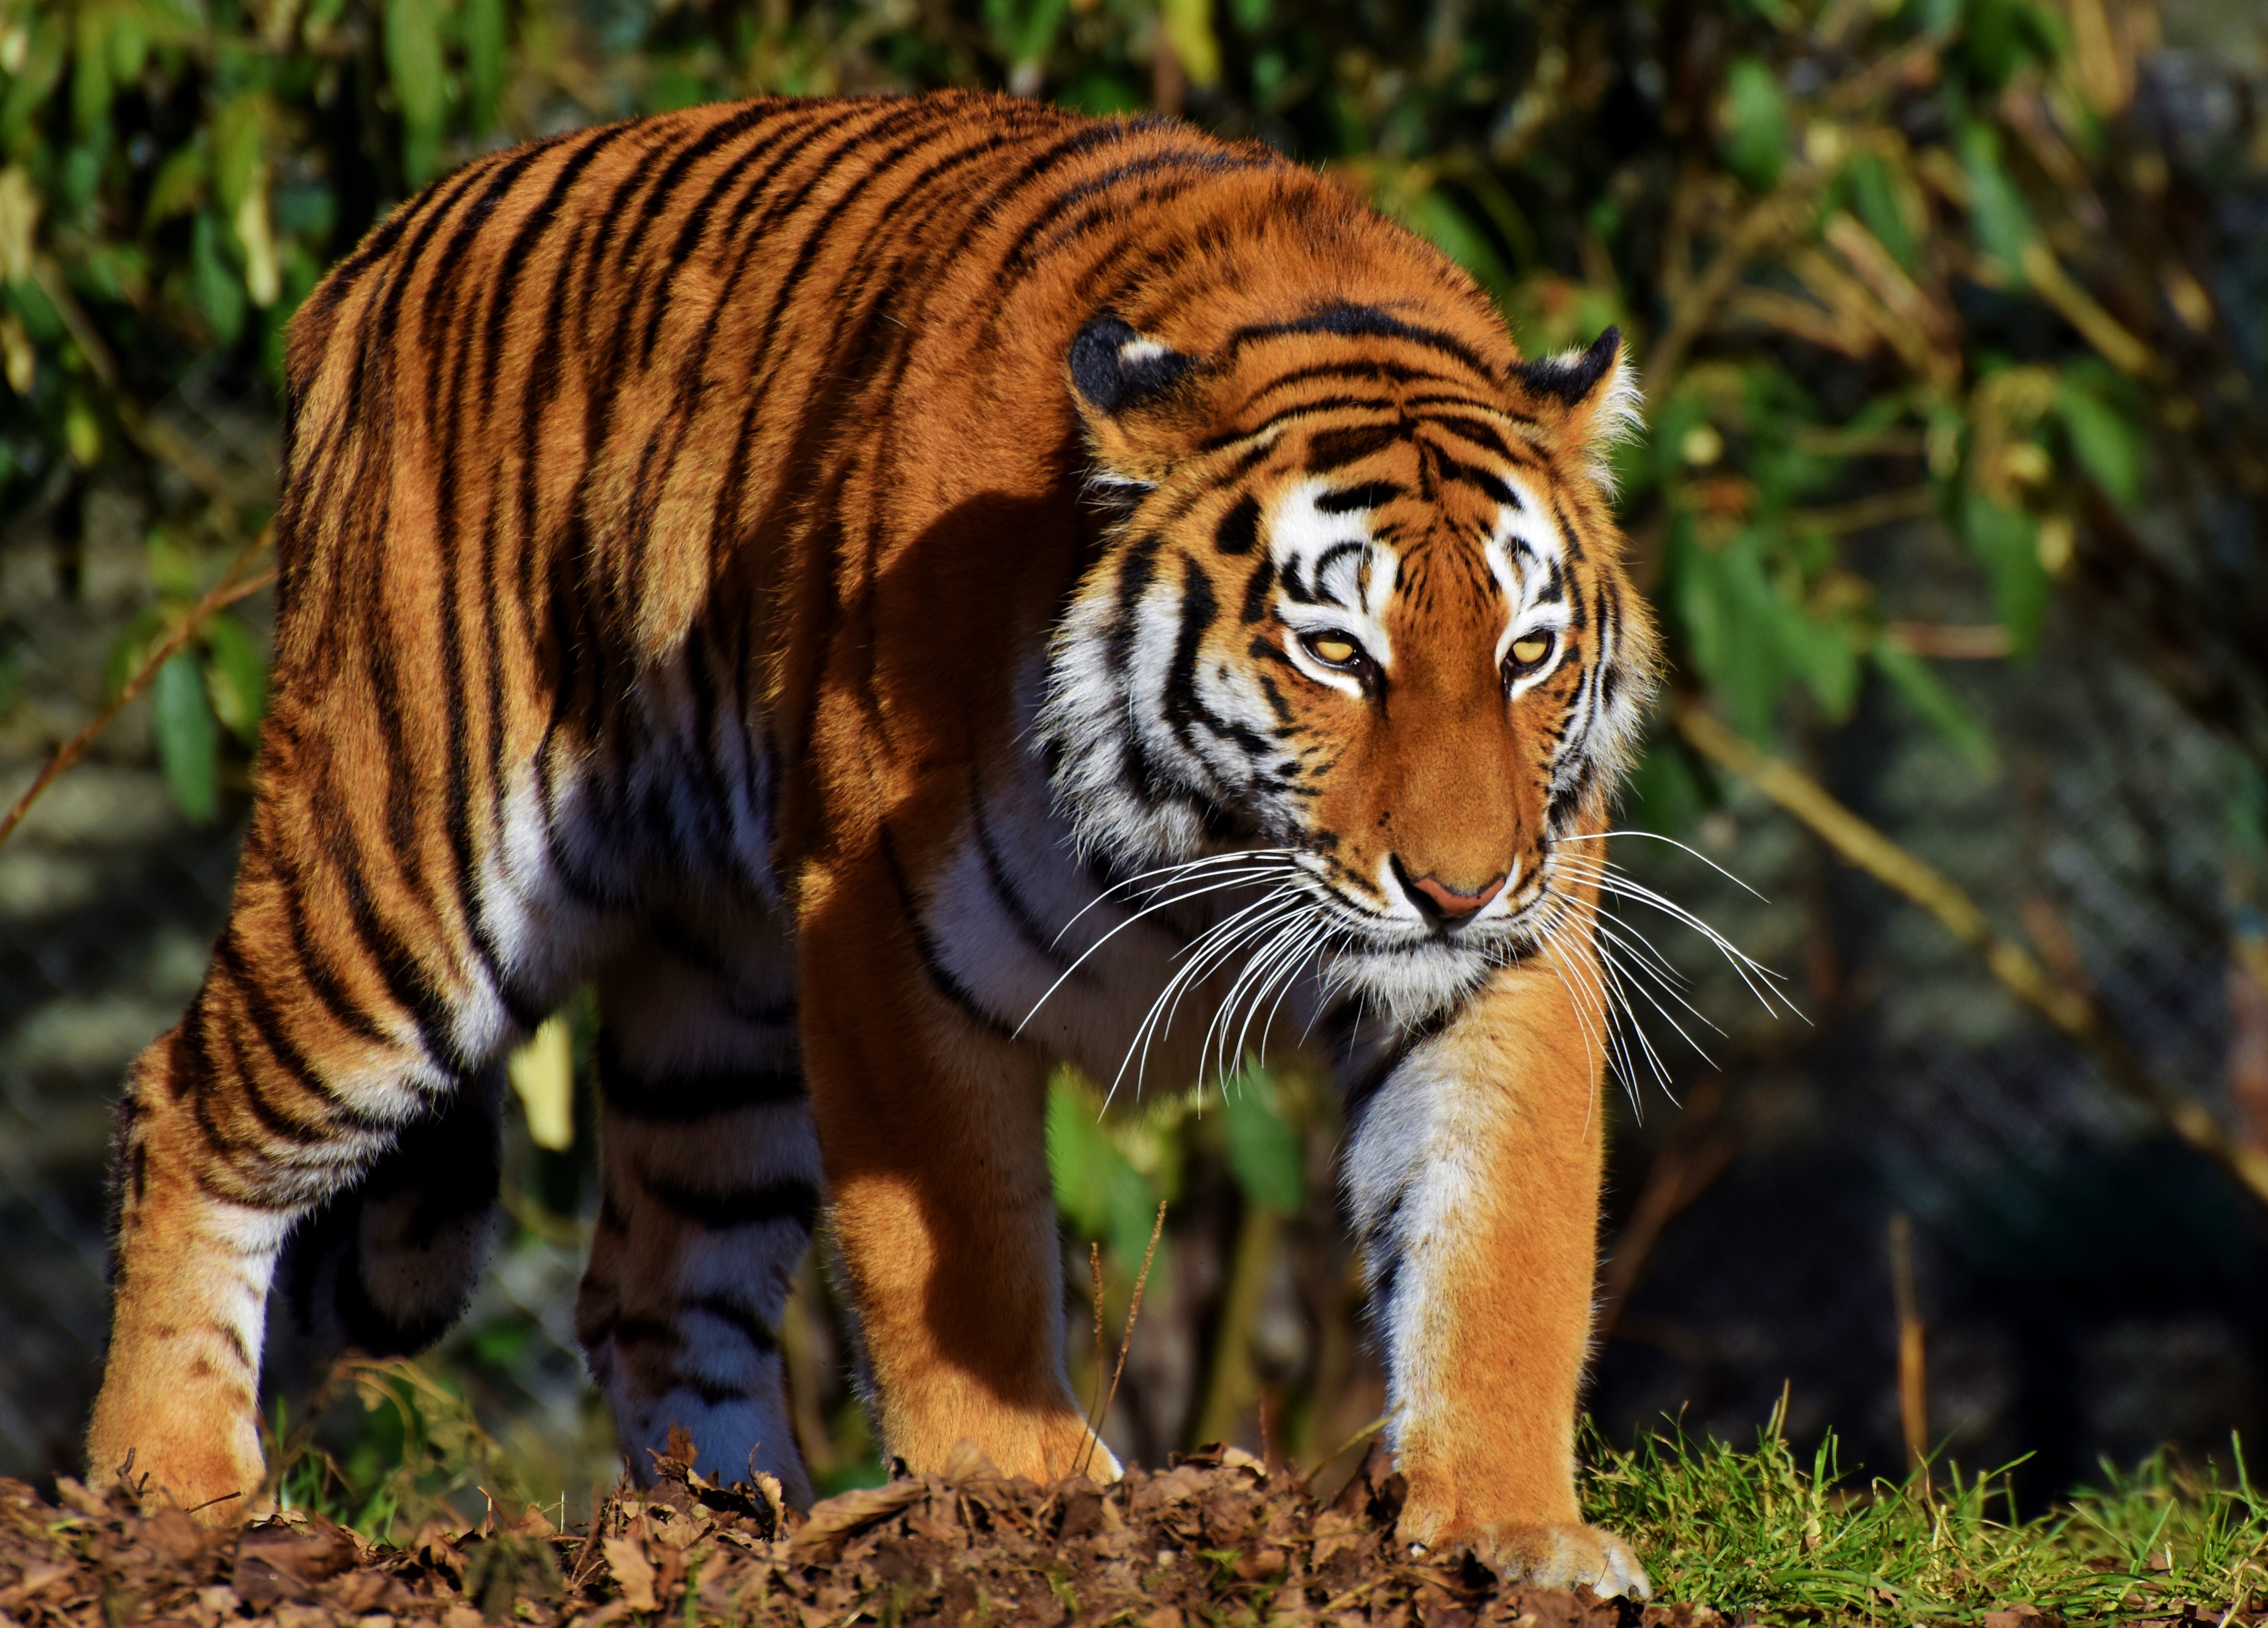tiger: (215, 143, 1720, 1588)
